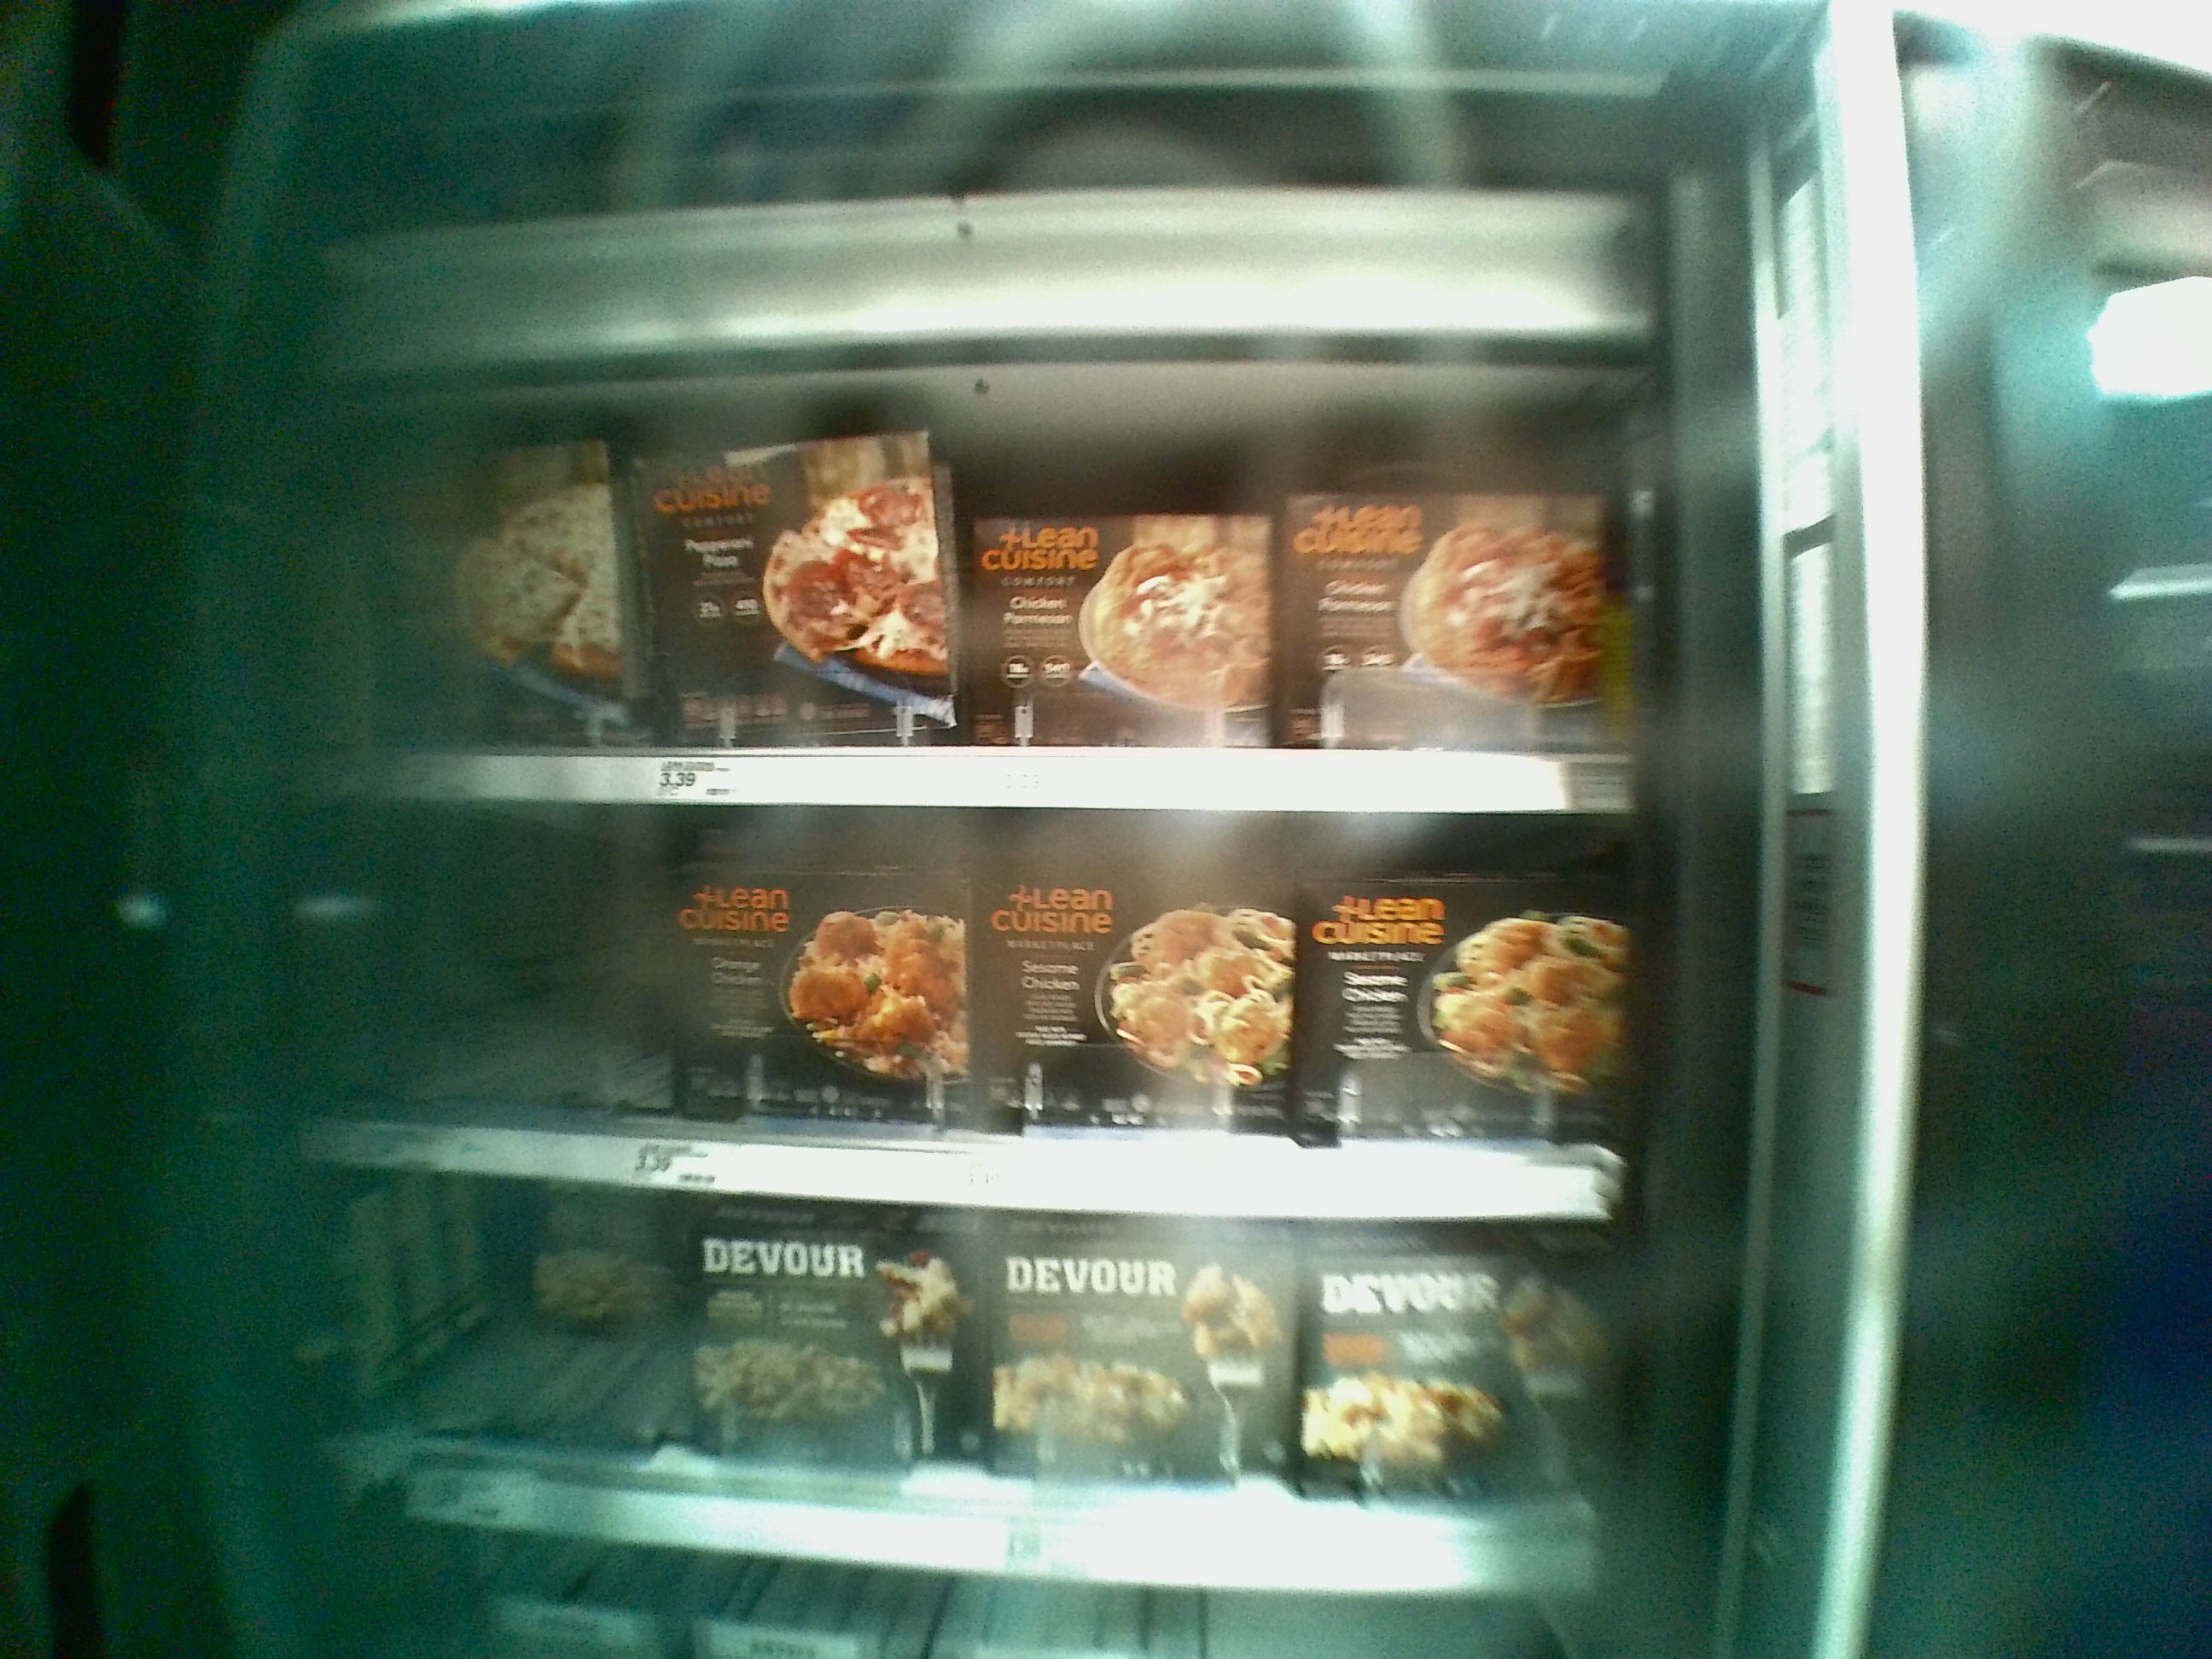Shelf: (329, 803, 1627, 1225), (350, 396, 1635, 807)
